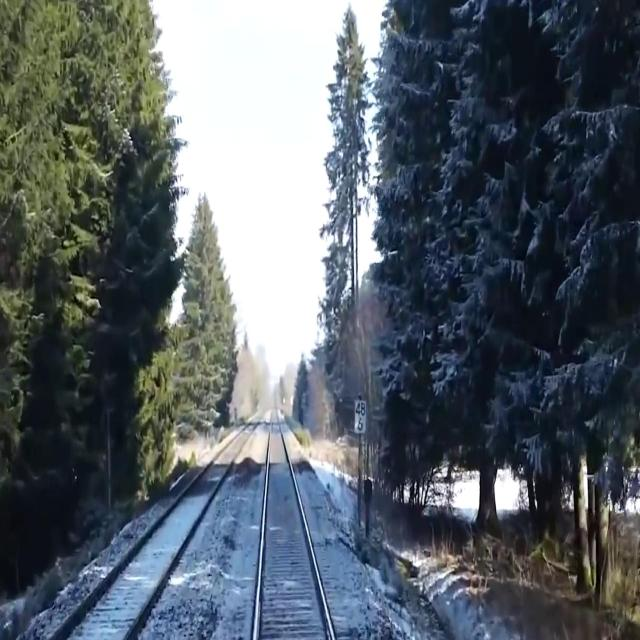rail-track: (58, 420, 256, 639), (258, 413, 330, 639)
